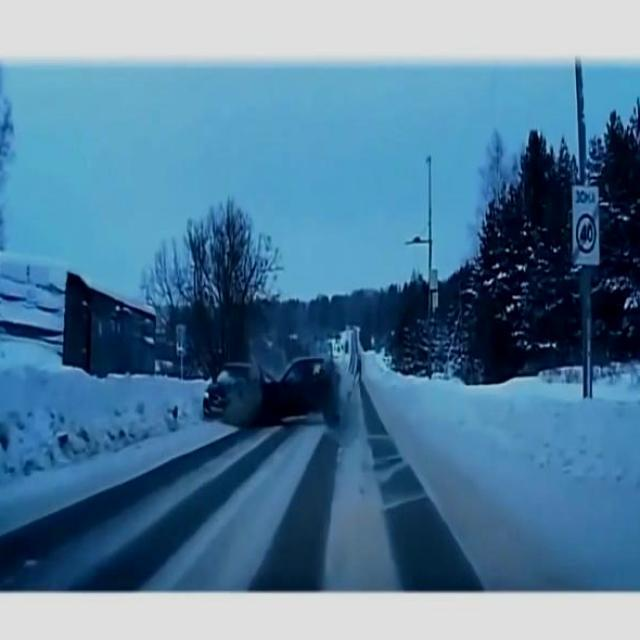accident: (202, 350, 343, 433)
